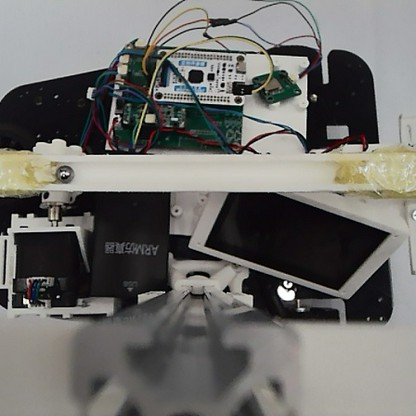ironball: (53, 163, 74, 185)
